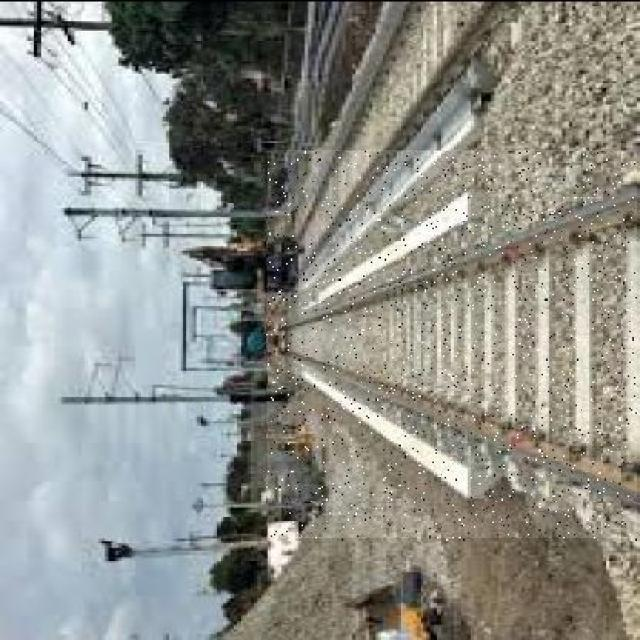rail: (269, 151, 638, 539)
